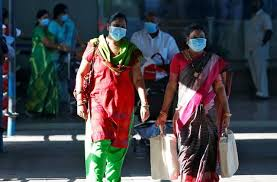mask: (186, 22, 209, 56), (106, 12, 128, 42), (144, 12, 162, 34), (54, 2, 70, 24), (36, 7, 51, 28)
